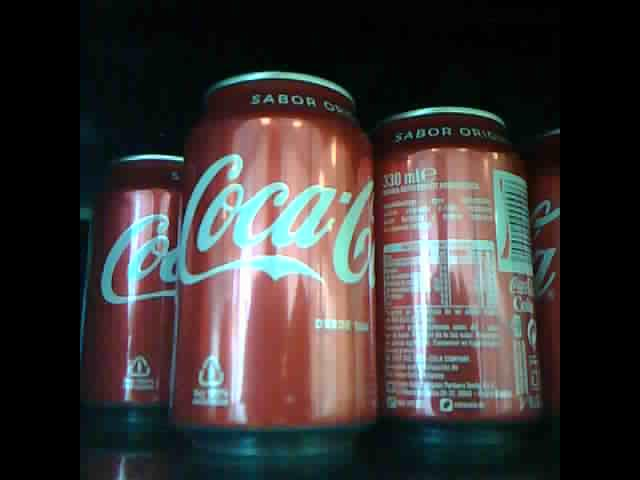coca cola: (167, 71, 374, 435), (373, 104, 541, 426), (102, 149, 180, 419), (516, 124, 559, 420)
